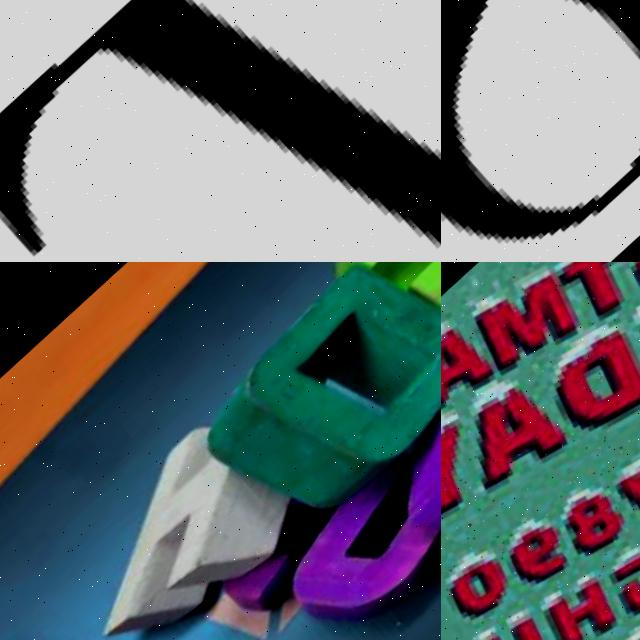0: (441, 543, 532, 635)
7: (612, 449, 640, 534)
8: (441, 0, 640, 262), (552, 477, 640, 568)
9: (495, 510, 587, 600)
D: (178, 262, 441, 559)
G: (361, 307, 441, 597)
T: (0, 0, 441, 262)
Z: (61, 572, 441, 640)
